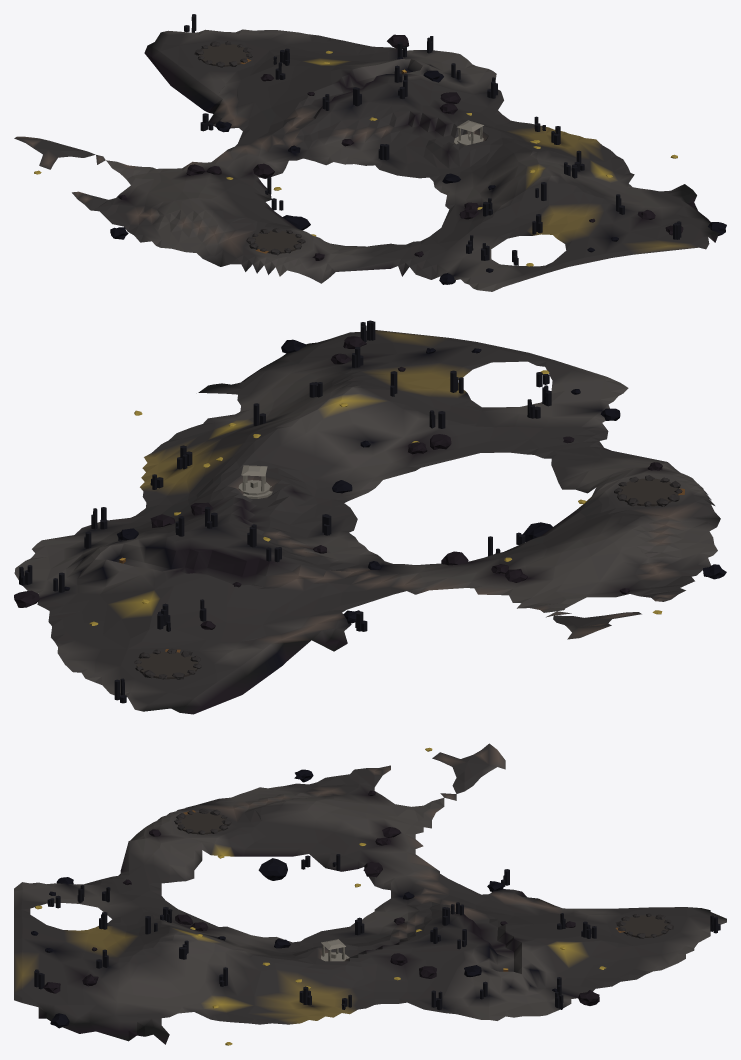
The model's file is ash_isl_hot_spring_lod1.glb.
The picture shows the model from 3 angles, top to bottom: view 1: azimuth 30°, elevation 25°; view 2: azimuth 150°, elevation 25°; view 3: azimuth 270°, elevation 25°; orthographic projection. The views are drawn at different scales.
Visible parts, largest first — view 1: geometry_0; view 2: geometry_0; view 3: geometry_0.
Boxes of the visible parts, bbox=[...] form: geometry_0: bbox=[14, 14, 726, 291]; geometry_0: bbox=[14, 320, 726, 714]; geometry_0: bbox=[14, 743, 726, 1045].
Bounding box in the file's own units: 149 × 15.87 × 174.
